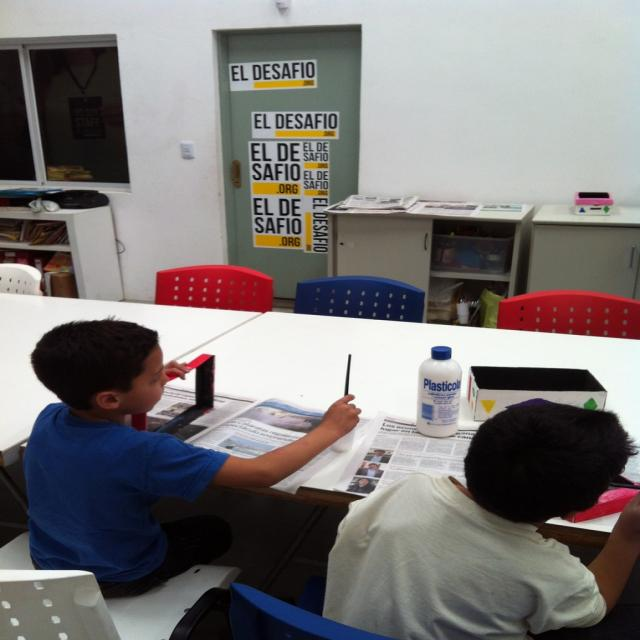chair: (227, 583, 400, 640), (496, 290, 639, 339), (294, 276, 426, 322), (155, 265, 274, 313), (0, 263, 44, 295)
desk: (19, 310, 639, 544)
laptop: (0, 569, 121, 639)
person: (22, 316, 366, 595), (323, 400, 640, 639)
